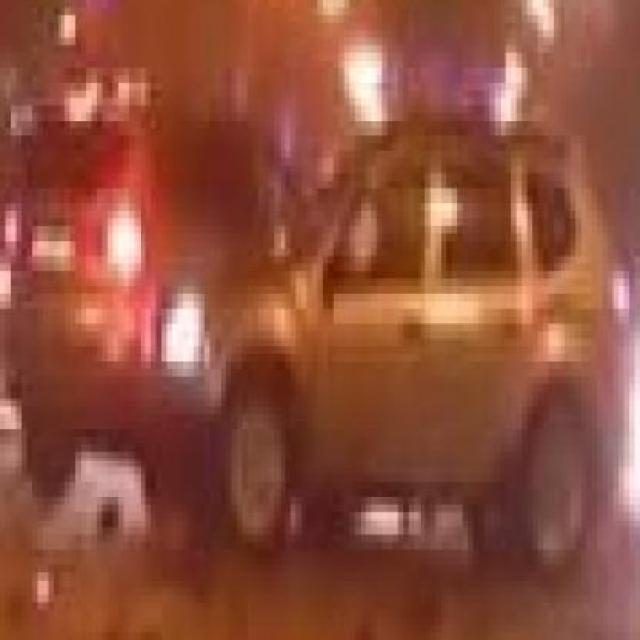accident: (56, 61, 640, 600)
